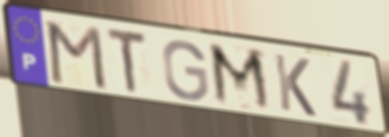4: (328, 58, 375, 129)
G: (160, 37, 211, 103)
K: (271, 51, 319, 120)
M: (206, 40, 276, 116), (45, 20, 110, 94)
T: (105, 26, 150, 97)
